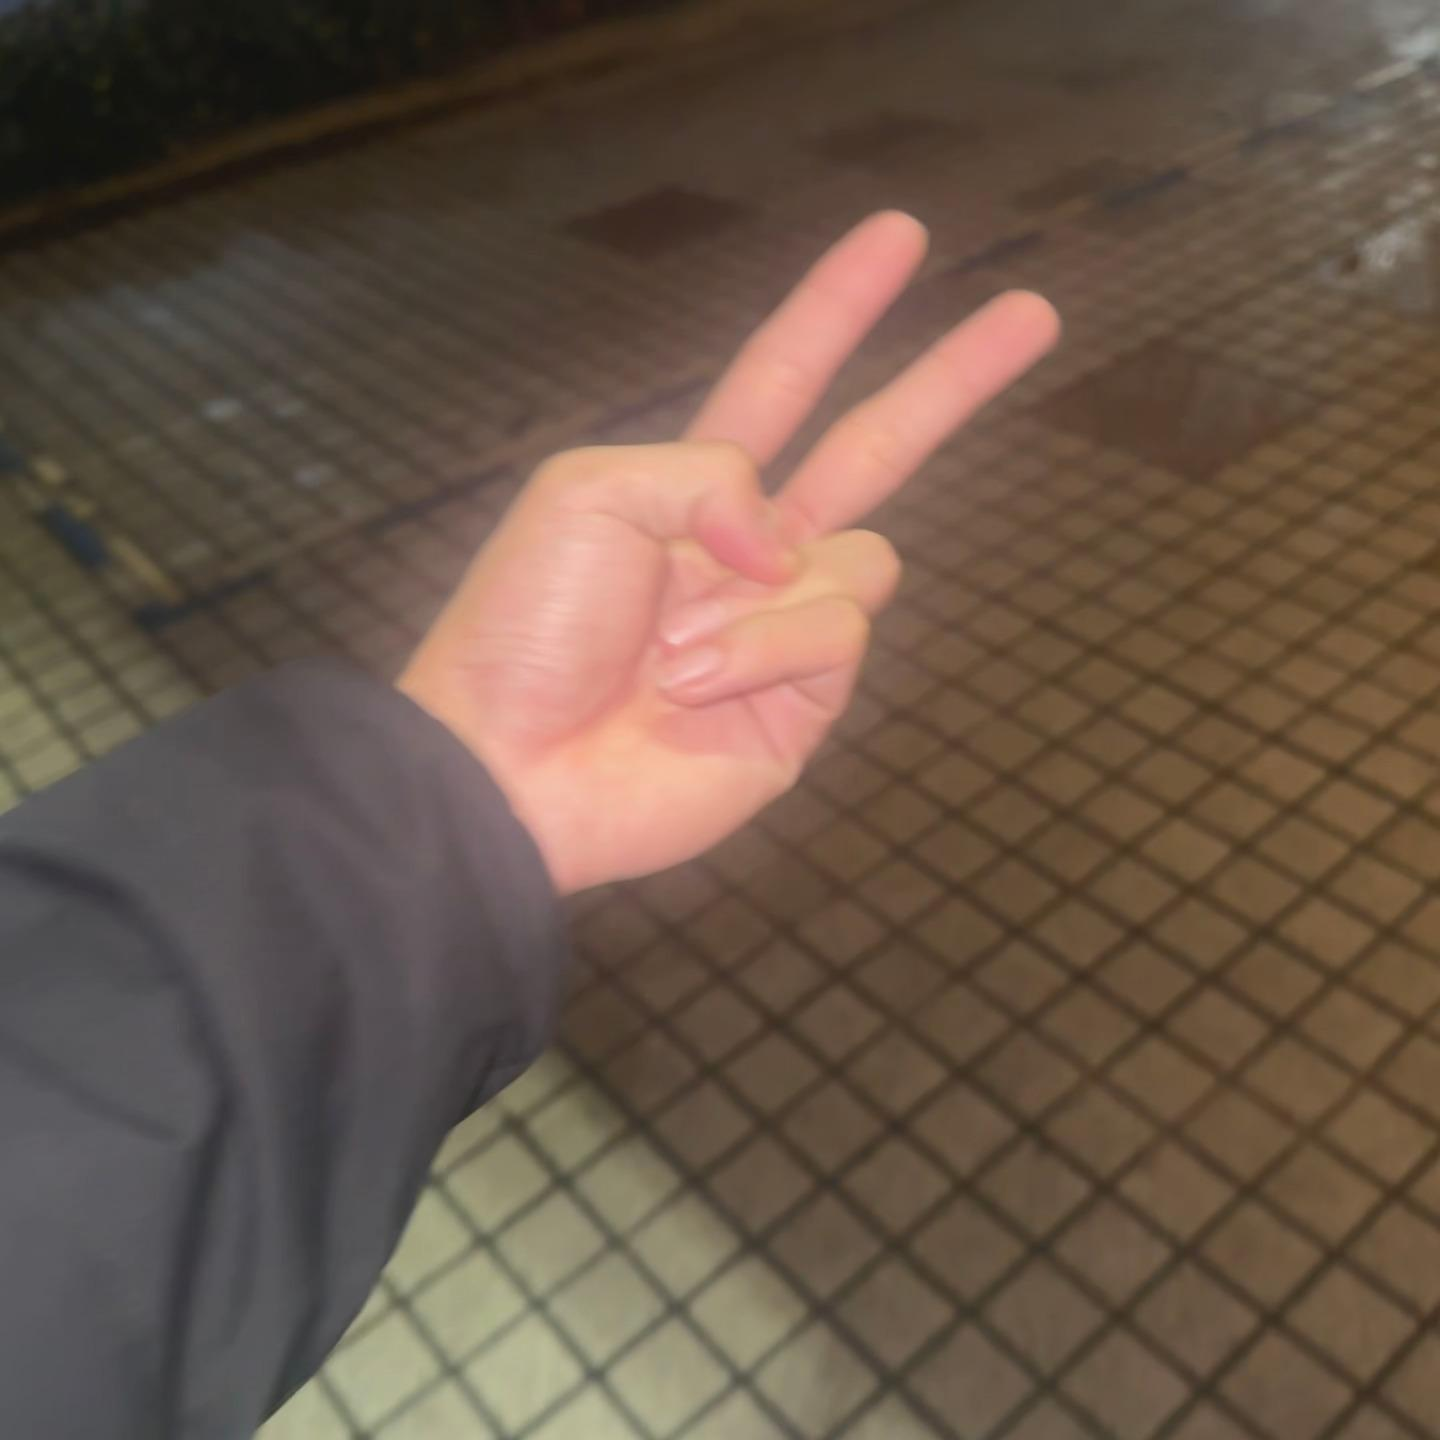without_gloves: (398, 112, 1175, 880)
